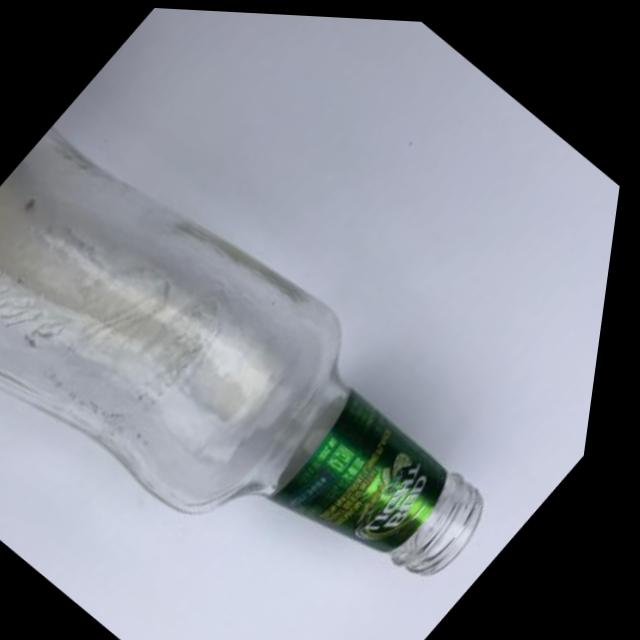glass: (0, 37, 636, 640)
